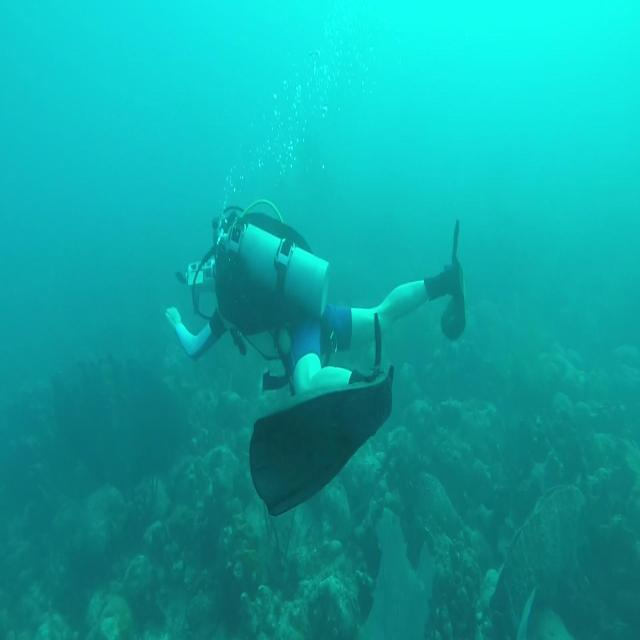human: (165, 199, 466, 400)
